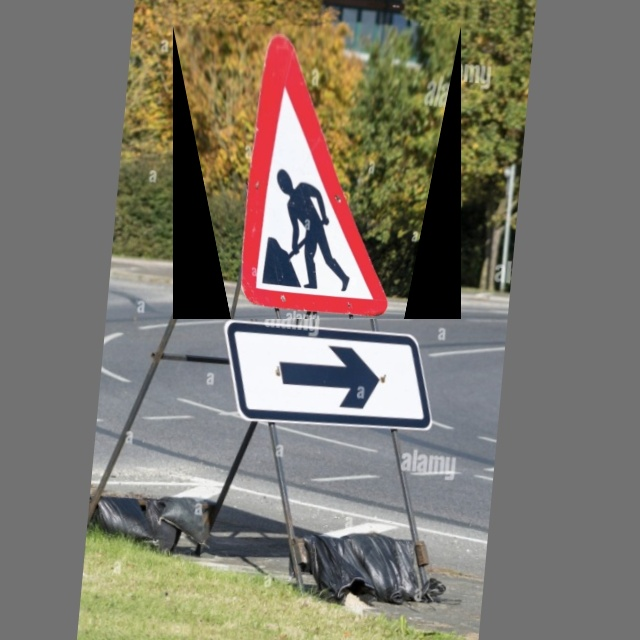Men_at_Work: (173, 26, 461, 319)
